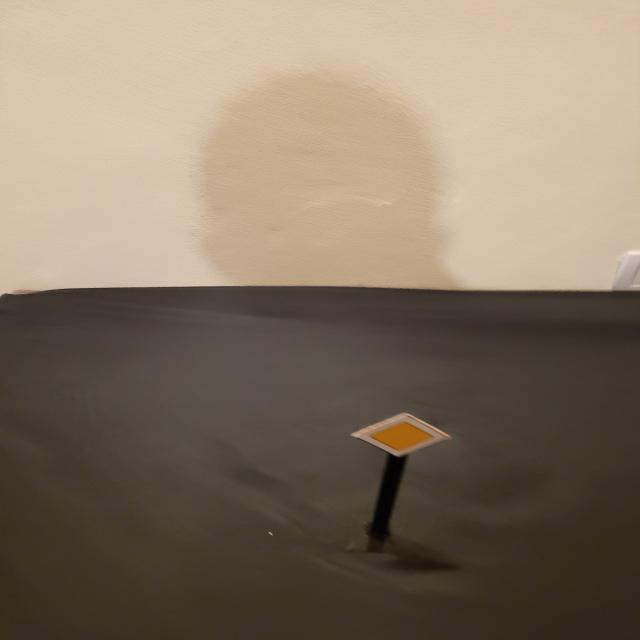priority: (349, 412, 452, 458)
